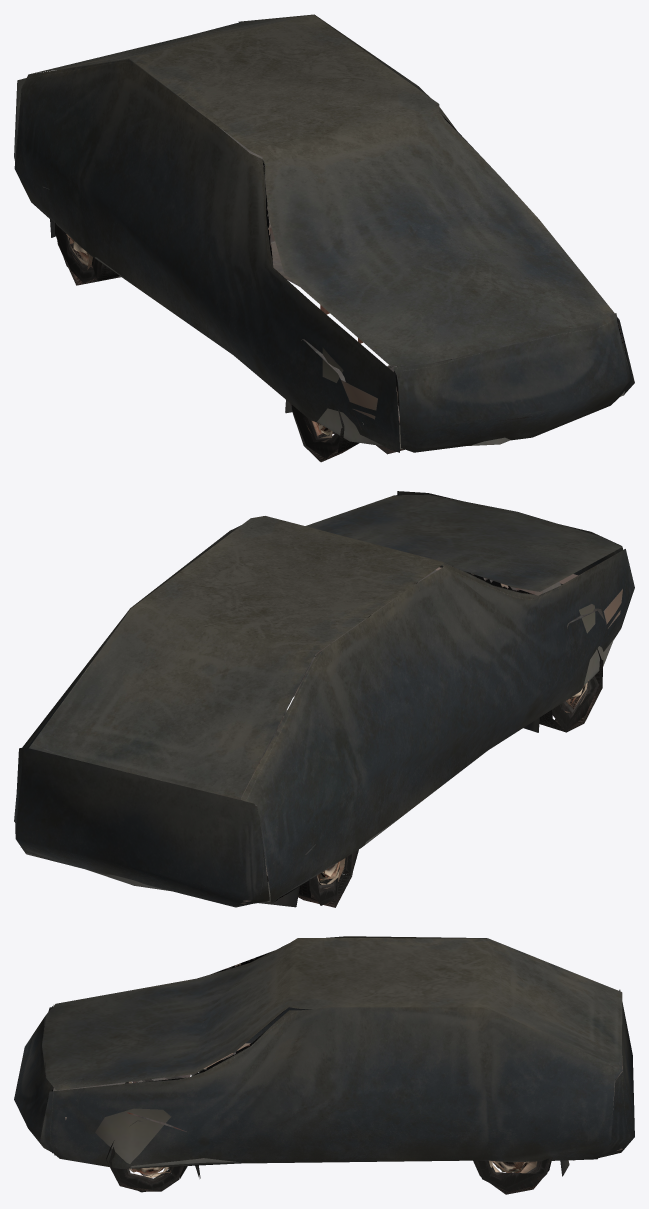
The model's file is covered_car_lod1.gltf.
3 renders of one model, top to bottom at view 1: azimuth 30°, elevation 25°; view 2: azimuth 150°, elevation 25°; view 3: azimuth 270°, elevation 25°, orthographic. The views are drawn at different scales.
Parts seen in each view (by area): view 1: covered_car_lod1; view 2: covered_car_lod1; view 3: covered_car_lod1.
Part boxes in pixels (x1,y1,x2,y2): covered_car_lod1: (14,14,634,462); covered_car_lod1: (14,491,634,907); covered_car_lod1: (14,936,634,1194).
Size of the model in its own units: 1.78 by 1.38 by 4.39.
2 materials, 2 textured.
